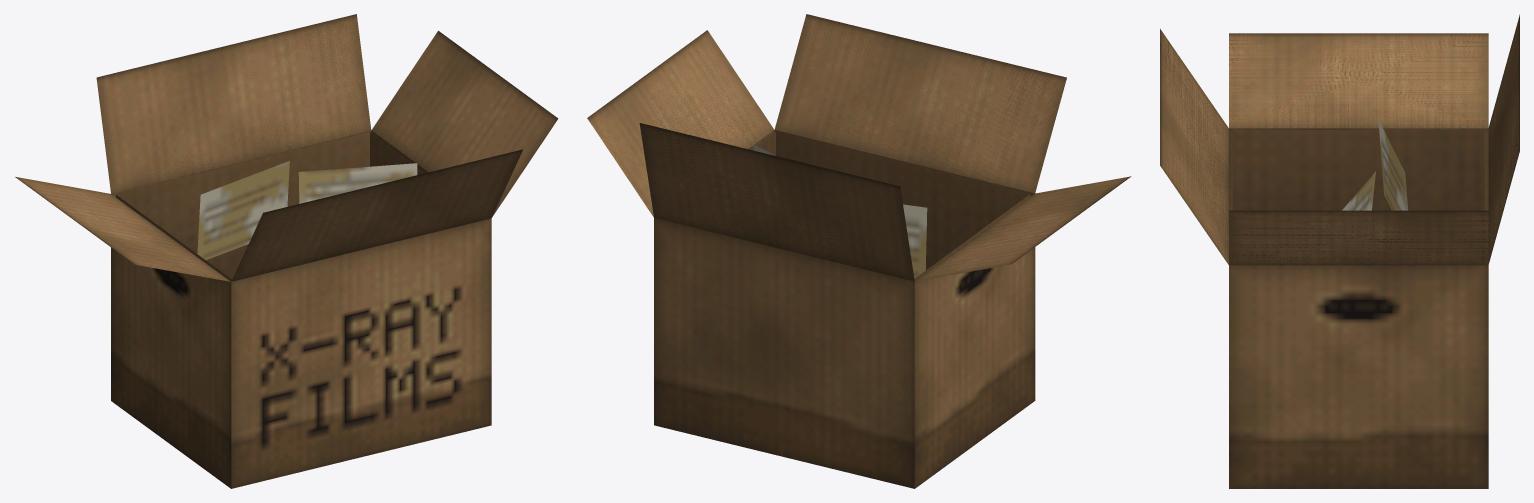
Rendered from cardboard_box_open.obj.
3 renders of one model, left to right at view 1: azimuth 30°, elevation 25°; view 2: azimuth 150°, elevation 25°; view 3: azimuth 270°, elevation 25°, orthographic. The views are drawn at different scales.
Visible parts, largest first — view 1: cardboard_box_open; view 2: cardboard_box_open; view 3: cardboard_box_open.
Part boxes in pixels (<box>): cardboard_box_open: <box>15,14,558,488</box>; cardboard_box_open: <box>587,14,1131,488</box>; cardboard_box_open: <box>1160,14,1519,488</box>.
Bounding box in the file's own units: 0.814 × 0.5741 × 0.5544.
1 material, 1 textured.
